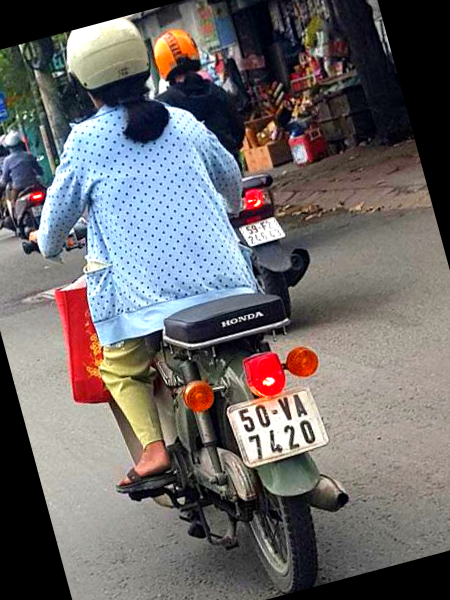number: (226, 385, 326, 467)
